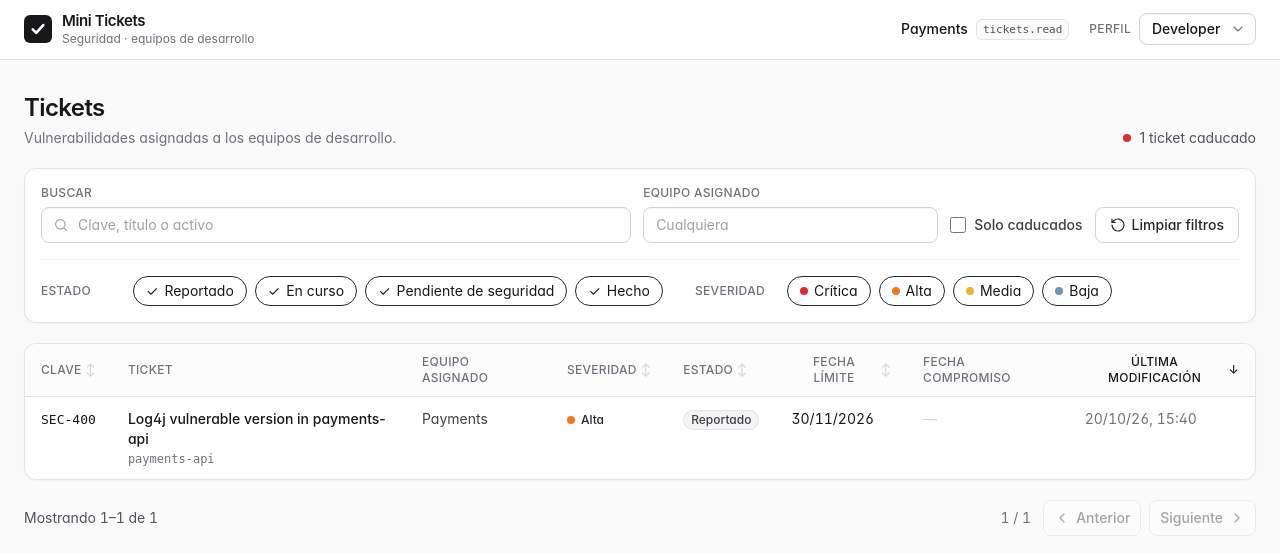
a slow response of a previous filter never replaces the current result
Click the checkbox labelled "Baja": click(1077, 291) [1042,276,1112,306]
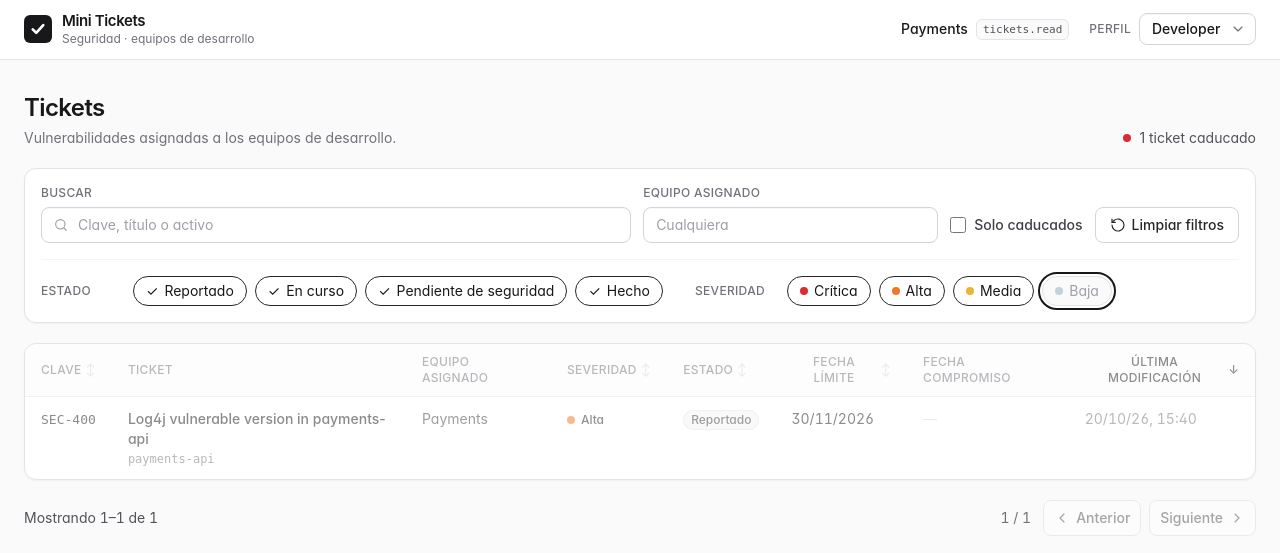
Click the checkbox labelled "Media": click(994, 291) [953,276,1034,306]
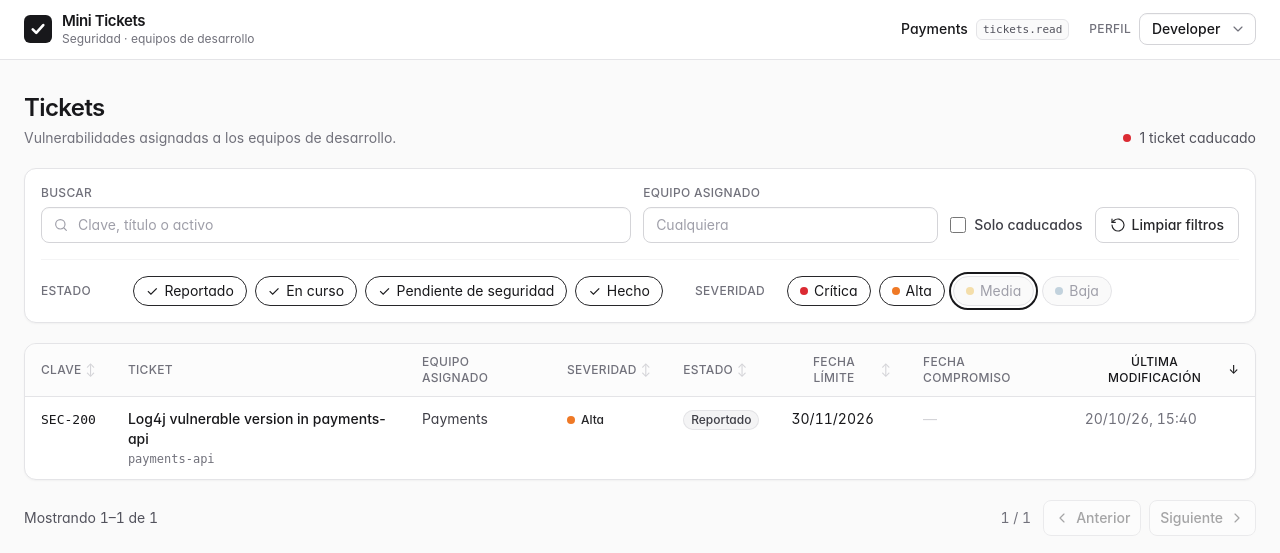
Expected: the link "SEC-200" is shown, [41,412,96,427]
